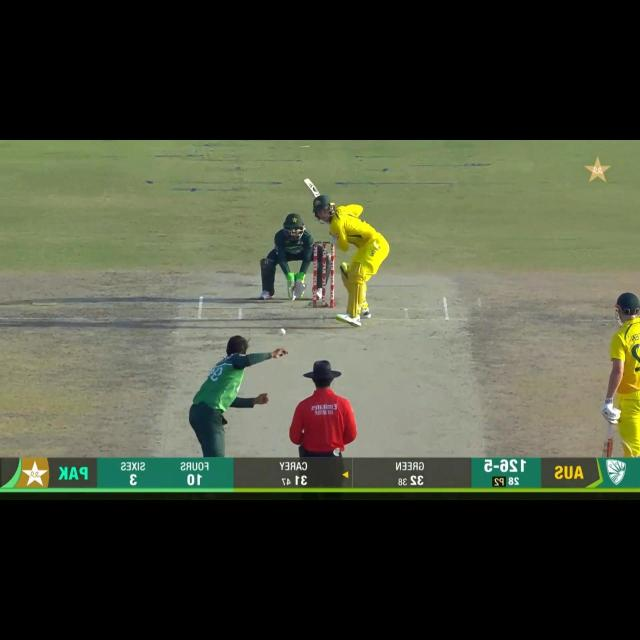bat: (303, 177, 322, 198), (603, 437, 615, 458)
toe: (303, 177, 313, 187)
